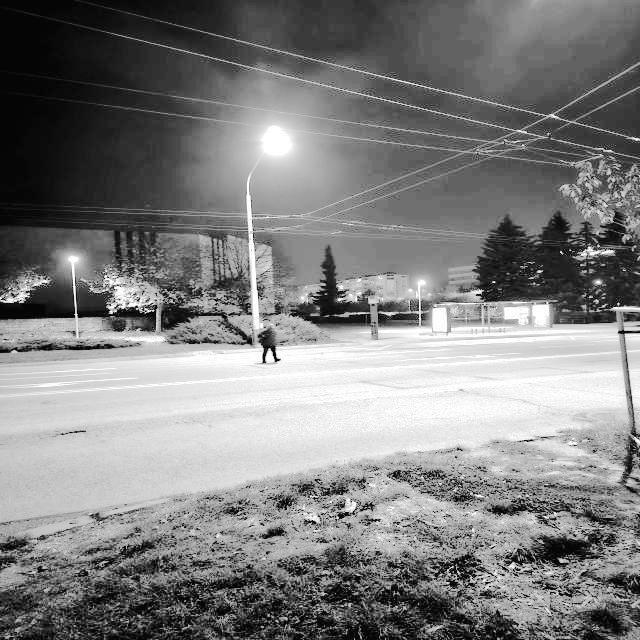Light: (244, 126, 285, 347), (62, 246, 97, 341), (411, 274, 435, 329)
